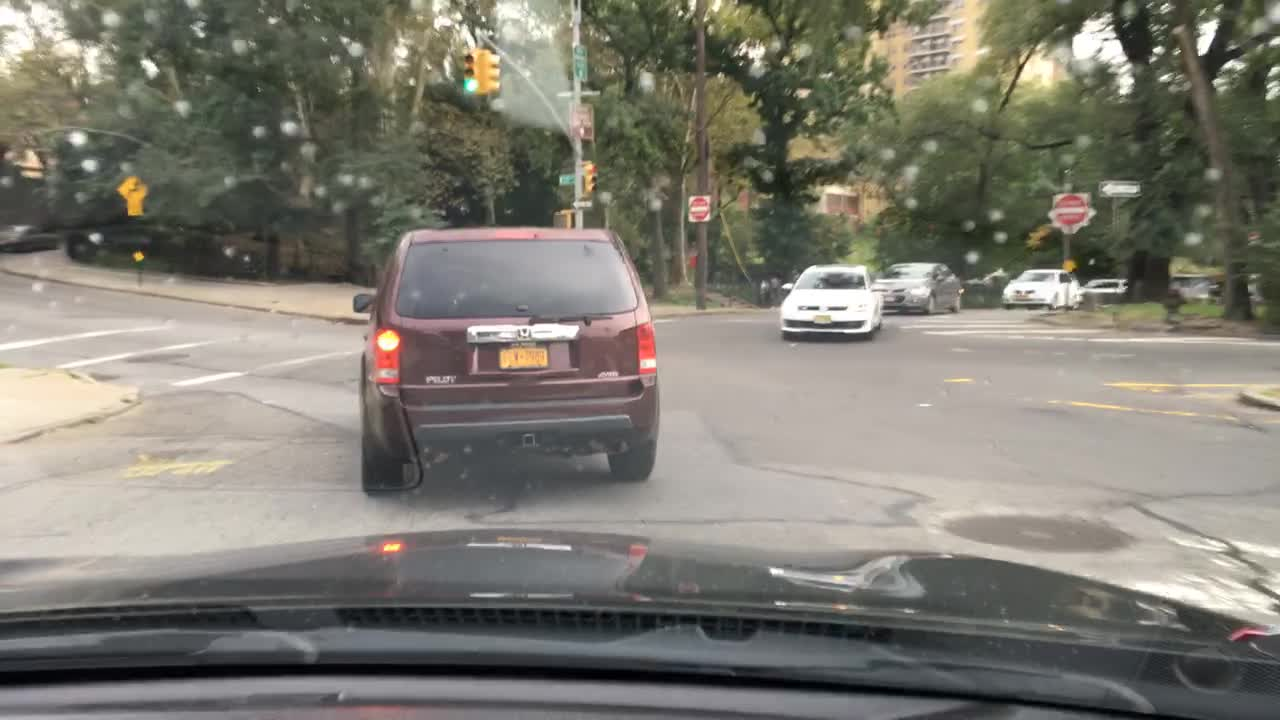car: (351, 224, 660, 493), (777, 266, 882, 335), (1166, 254, 1260, 306), (877, 262, 964, 313), (1005, 267, 1078, 312), (0, 222, 59, 252), (1080, 277, 1127, 295)
traffic light: (462, 52, 482, 92), (486, 53, 501, 91), (581, 159, 597, 193), (551, 212, 571, 227)
traffic sign: (1050, 192, 1090, 226), (117, 173, 149, 202), (570, 100, 595, 137), (1095, 181, 1142, 197), (686, 197, 711, 222), (571, 45, 588, 78), (127, 199, 142, 217), (558, 174, 571, 184), (1064, 261, 1075, 272), (573, 202, 593, 208)
